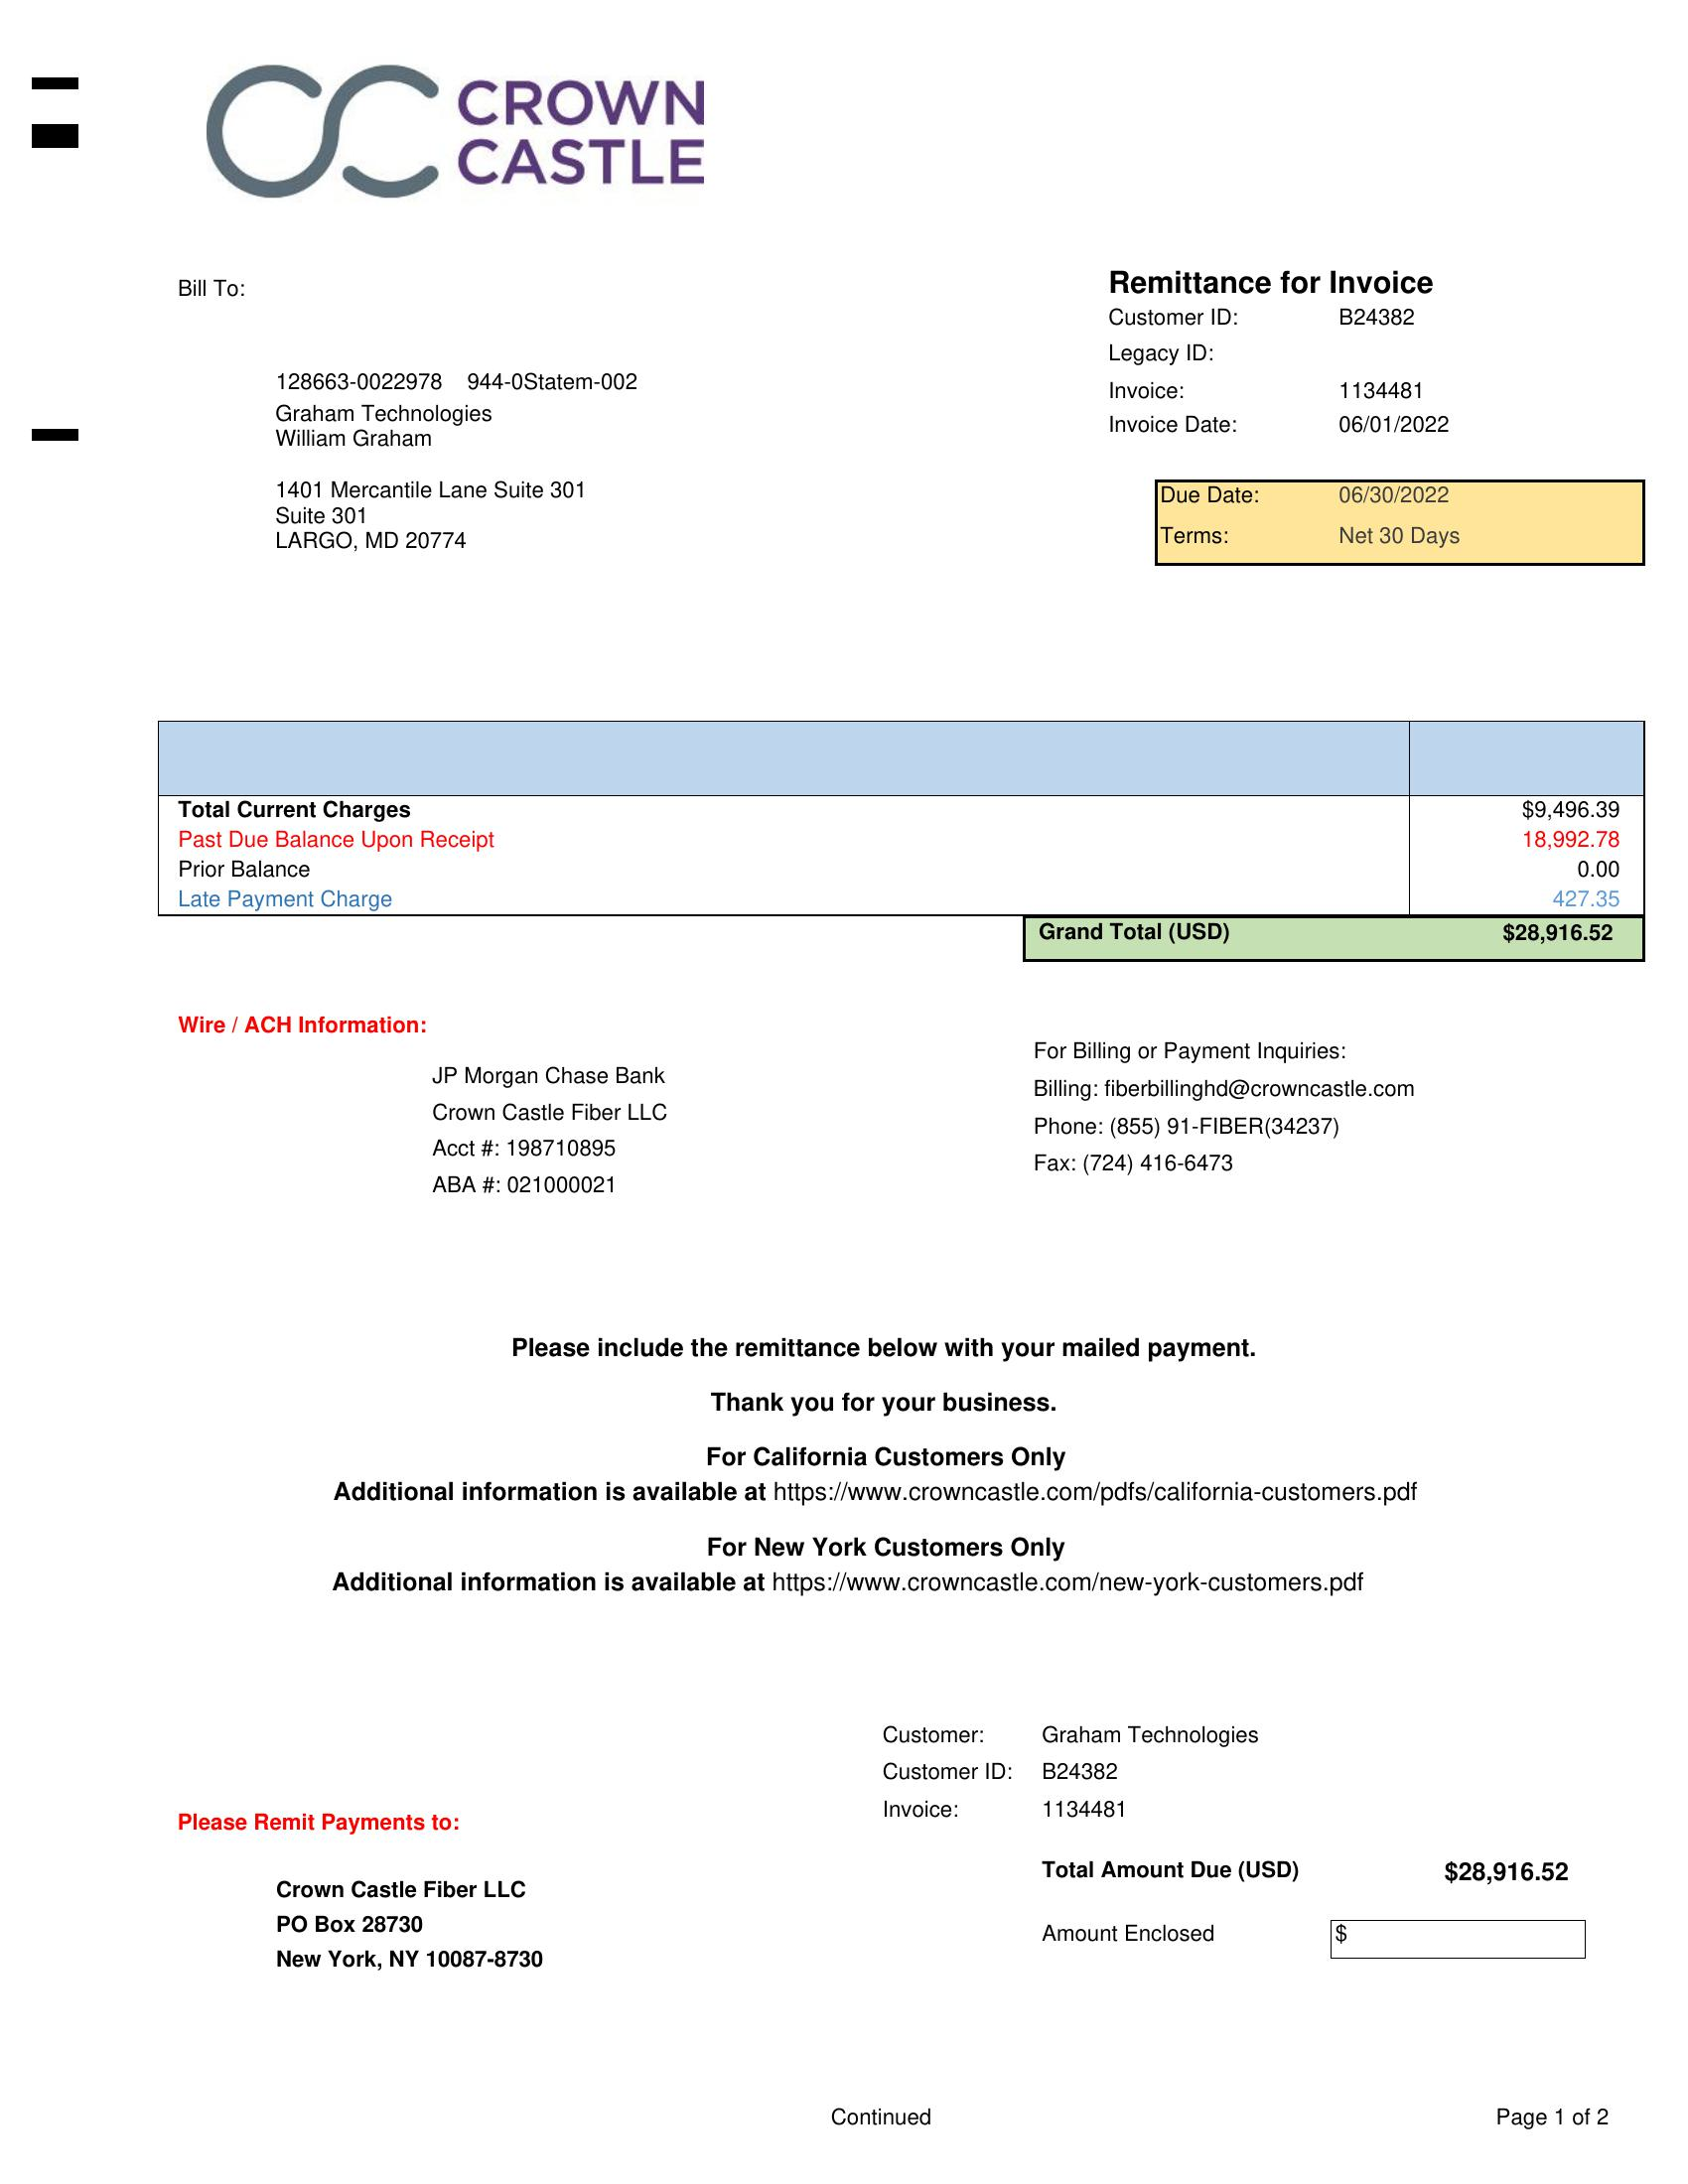table: (142, 721, 1660, 916)
